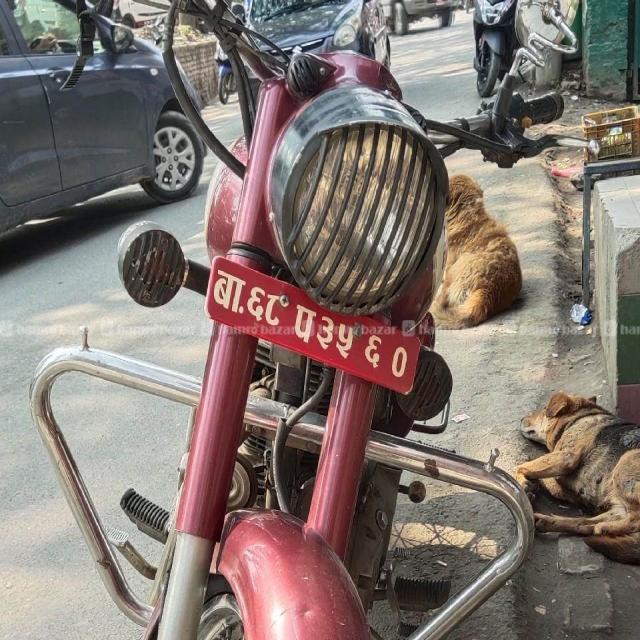License-plate: (212, 240, 421, 397)
